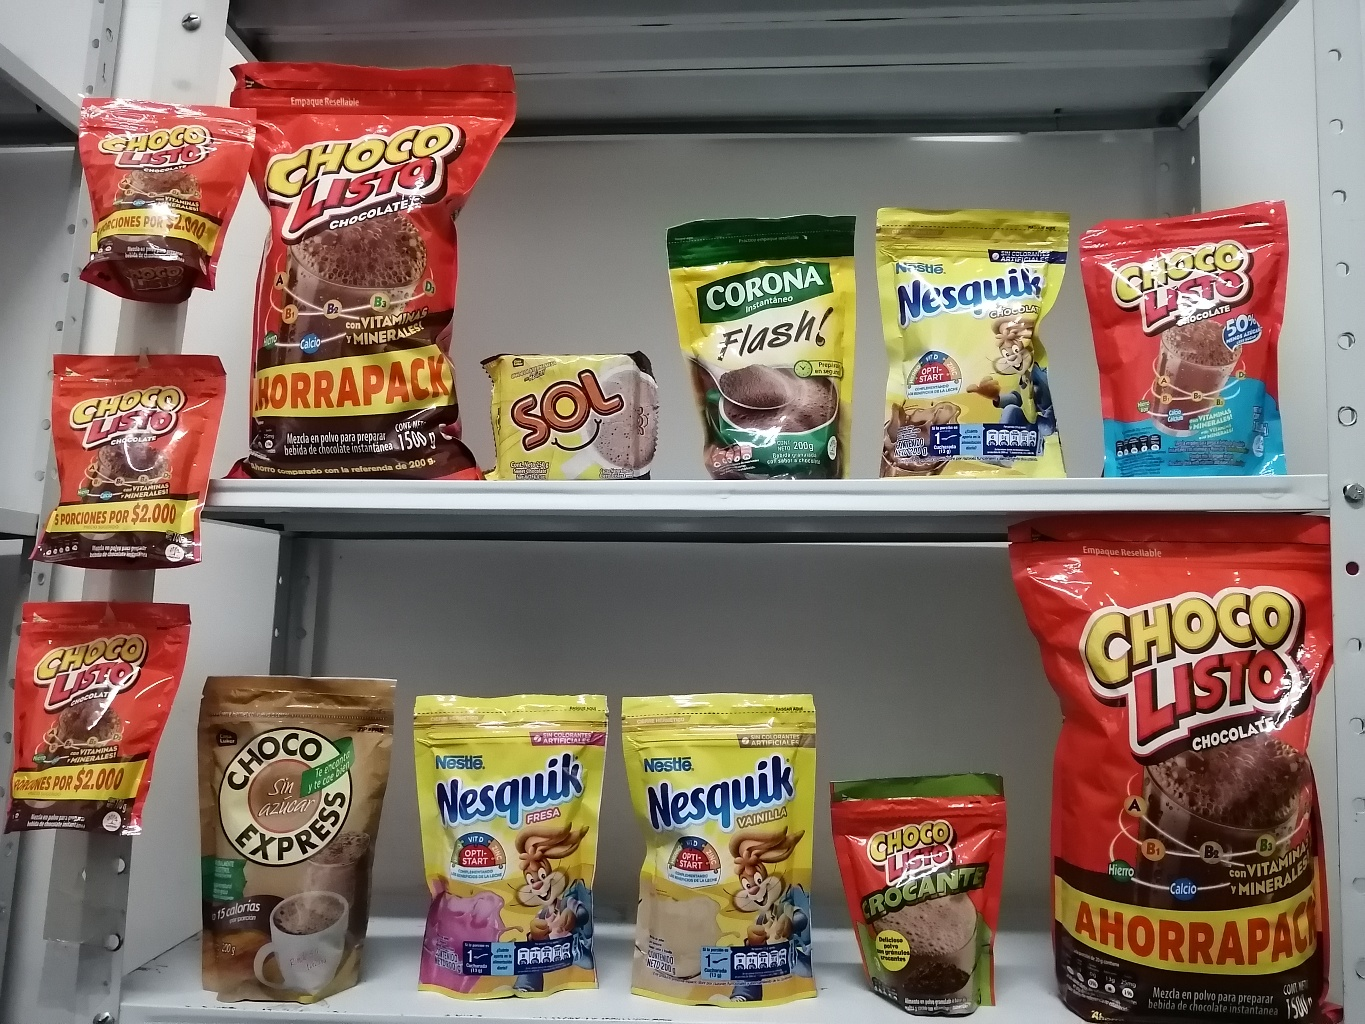COL0170102DYP10000: (825, 765, 1010, 1018)
COL0170103DYP1,500: (1016, 509, 1355, 1021)
COL0170103DYP10000: (63, 71, 253, 307)
COL0170104DYP20000: (1083, 202, 1304, 485)
COL0170303DYP20000: (864, 194, 1077, 478)
COL0170305DYP20000: (404, 680, 612, 998)
COL0170306DYP20000: (621, 685, 823, 1009)
